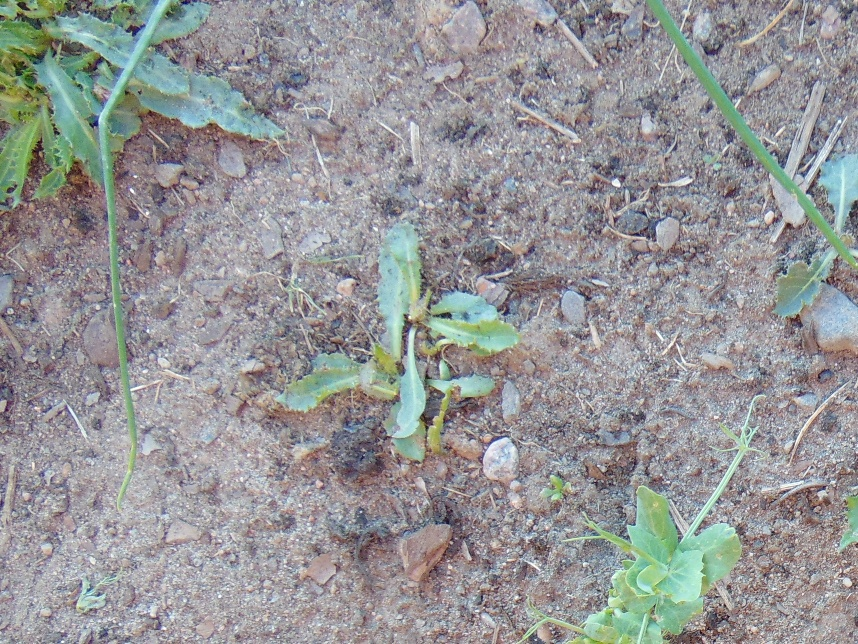crop: (578, 487, 739, 644), (661, 433, 763, 563), (525, 577, 677, 644), (73, 573, 119, 613)
weed: (1, 1, 284, 205), (287, 228, 520, 465), (771, 150, 858, 323), (834, 495, 858, 558)
